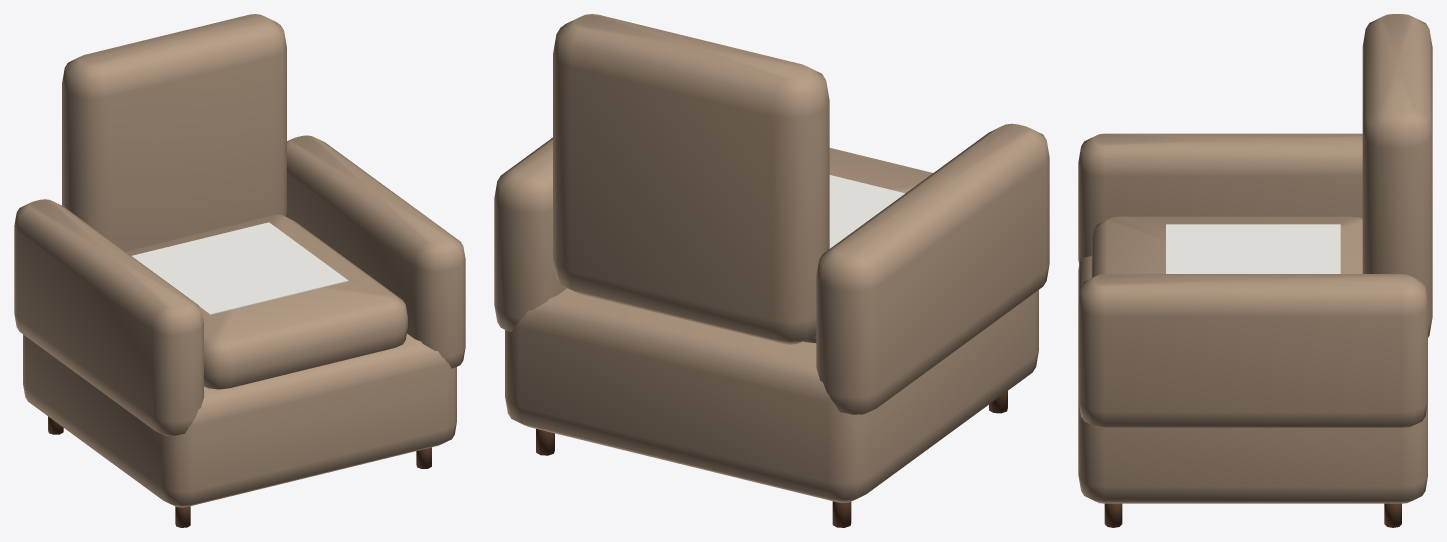
File: armchair_old.glb
The picture shows the model from 3 angles, left to right: view 1: azimuth 30°, elevation 25°; view 2: azimuth 150°, elevation 25°; view 3: azimuth 270°, elevation 25°; orthographic projection. The views are drawn at different scales.
Parts seen in each view (by area): view 1: armchair_old; view 2: armchair_old; view 3: armchair_old.
Boxes of the visible parts, bbox=[...] form: armchair_old: bbox=[14, 14, 465, 527]; armchair_old: bbox=[494, 14, 1049, 527]; armchair_old: bbox=[1078, 14, 1432, 527].
Size of the model in its own units: 0.9 by 1 by 0.81.
